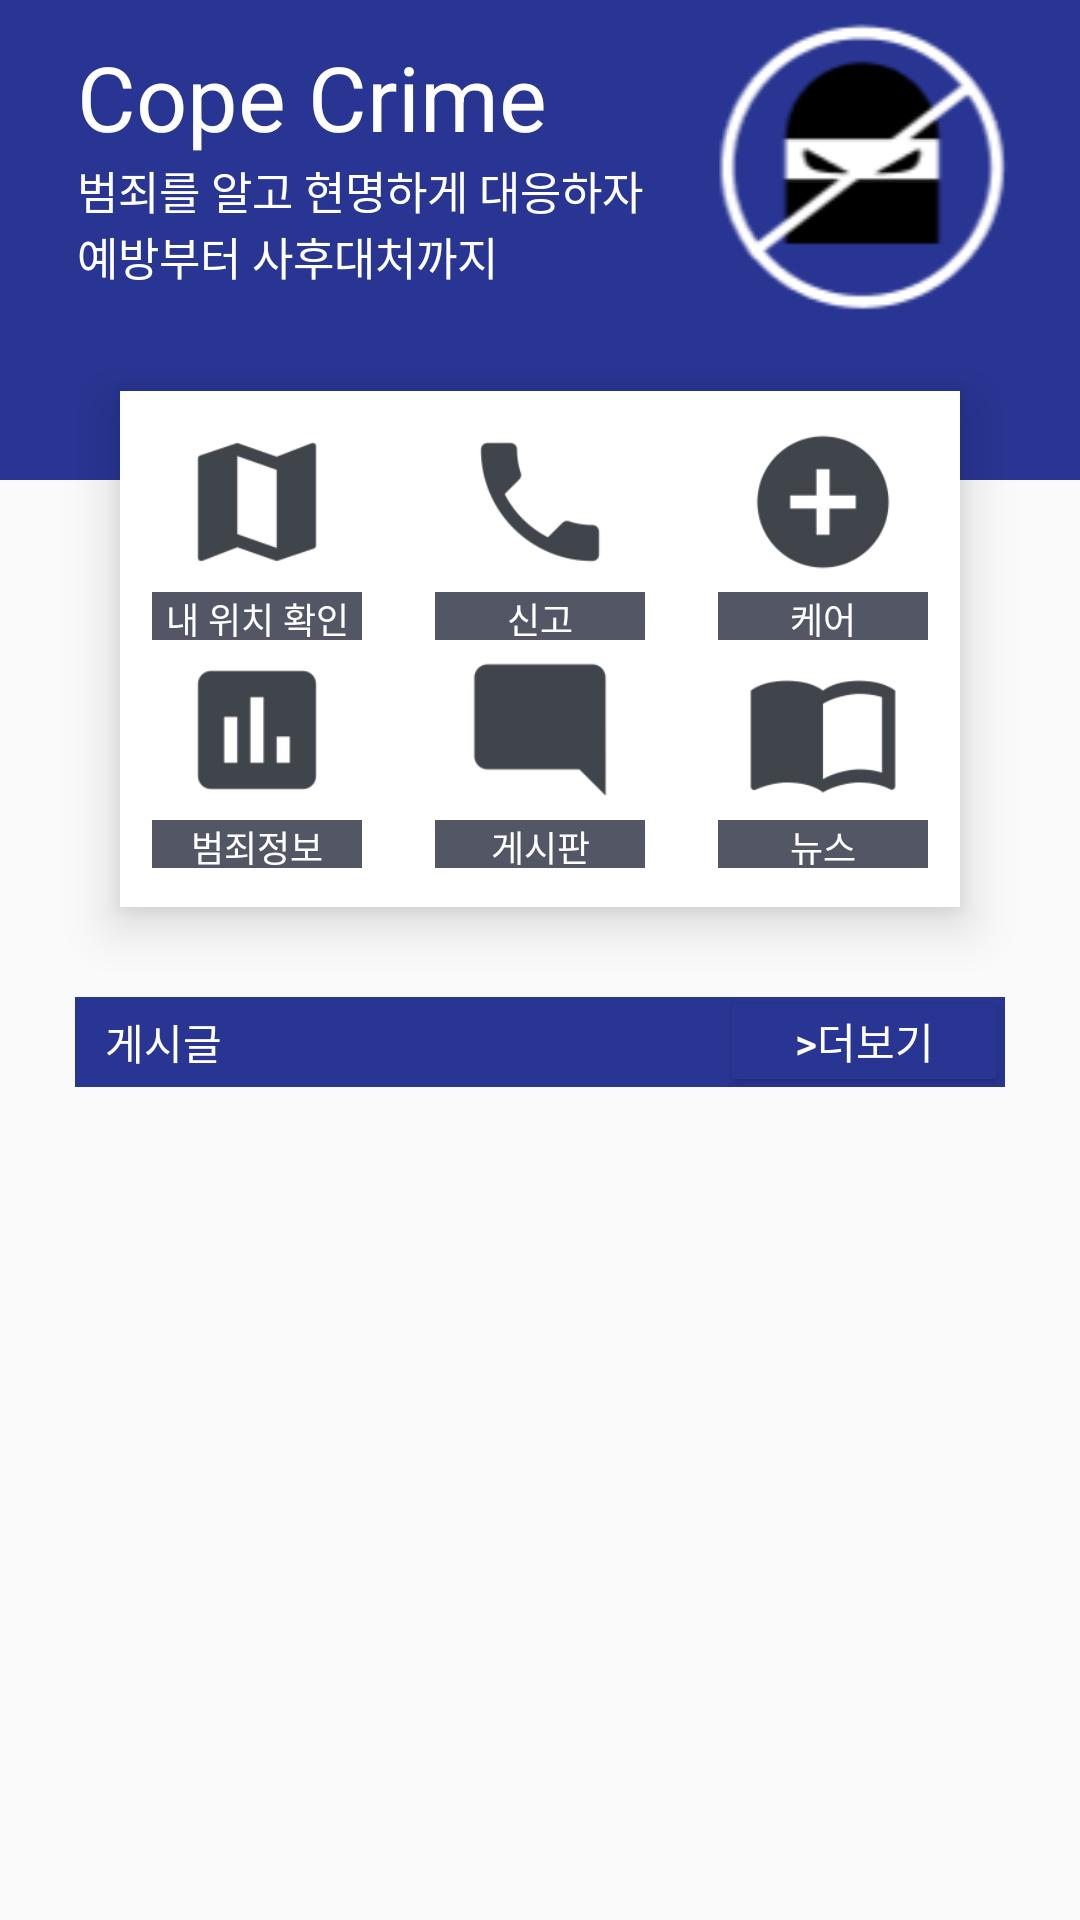

Named icons in this screenshot (1080 × 1920) and their centers, (x,y):
comment: (540,729)
map: (257,502)
phone: (540,502)
